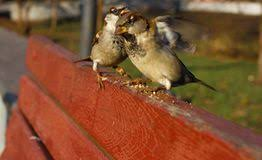hsparrow: (113, 12, 228, 97), (89, 1, 129, 92)
